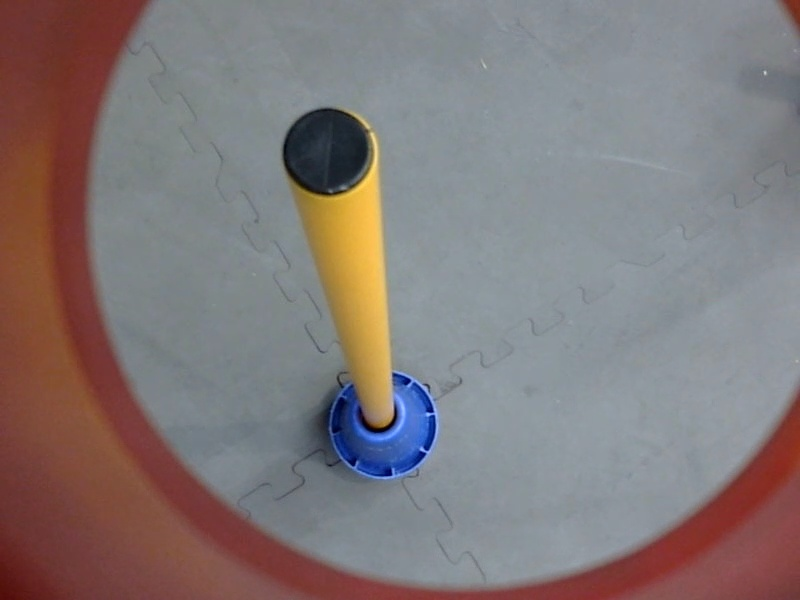tip: (277, 99, 382, 205)
